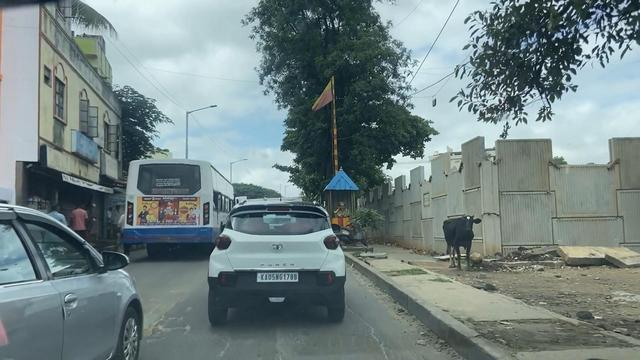LMV: (216, 206, 336, 313), (125, 157, 210, 245)
RoadDamages: (207, 321, 319, 360), (147, 303, 189, 342), (367, 313, 389, 360)
